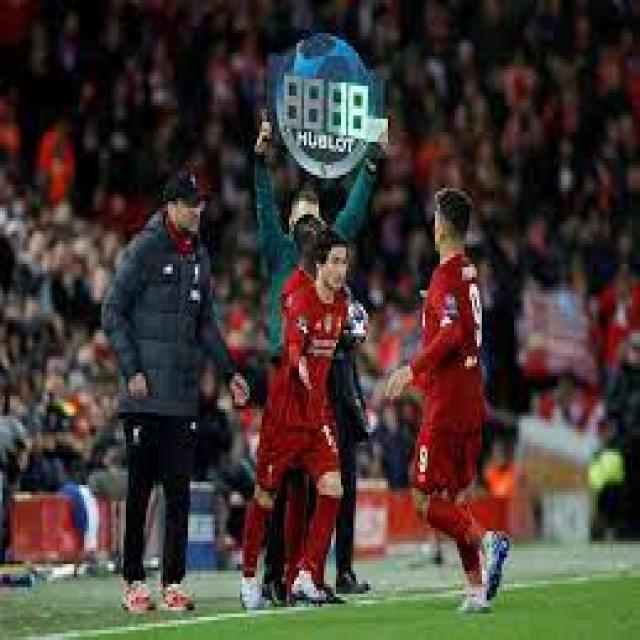substitution: (256, 33, 401, 188)
